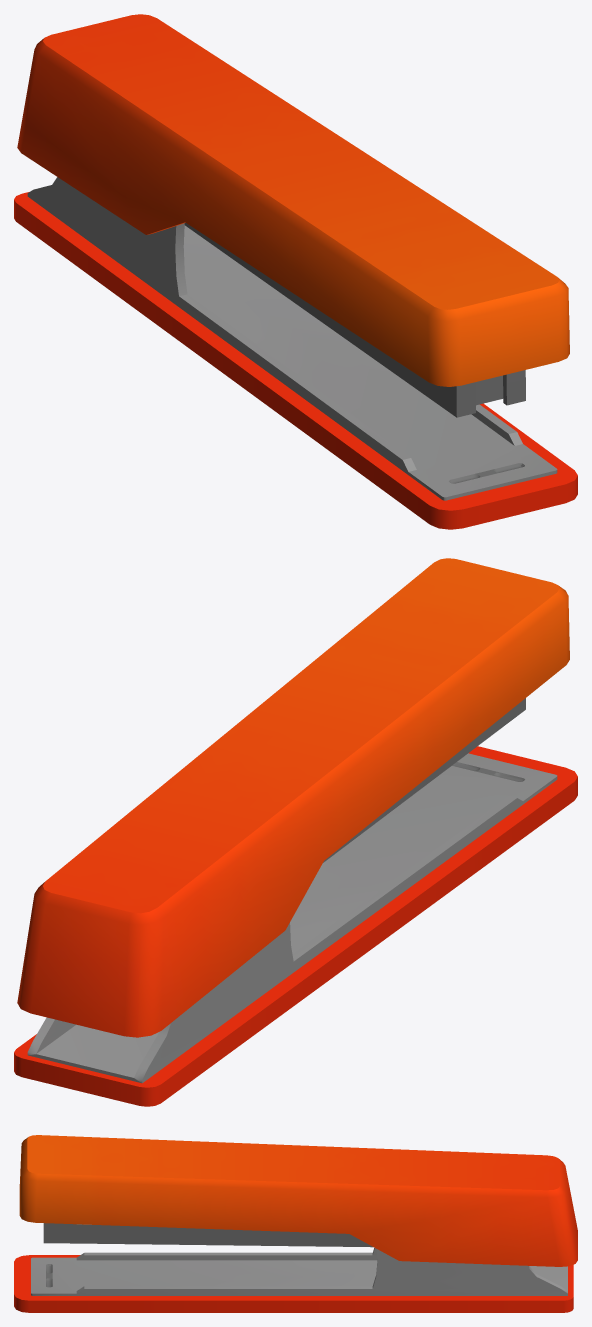
Rendered from Stapler.fbx.
3 views of the same model, one above another, from view 1: azimuth 30°, elevation 25°; view 2: azimuth 150°, elevation 25°; view 3: azimuth 270°, elevation 25° (orthographic). The views are drawn at different scales.
Parts seen in each view (by area): view 1: Stapler1_1; view 2: Stapler1_1; view 3: Stapler1_1.
Boxes of the visible parts, bbox=[...] form: Stapler1_1: bbox=[14, 14, 577, 529]; Stapler1_1: bbox=[14, 558, 577, 1106]; Stapler1_1: bbox=[14, 1135, 577, 1312].
Bounding box in the file's own units: 99.29 × 138 × 519.
